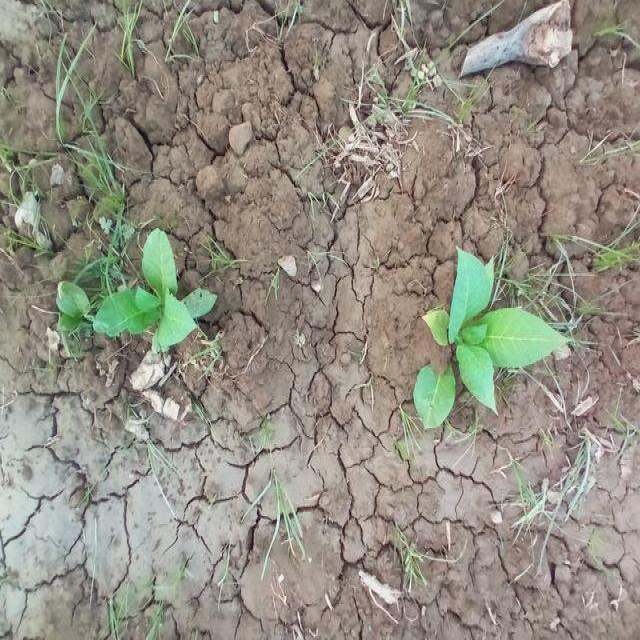crop: (419, 251, 548, 446), (106, 221, 202, 357)
